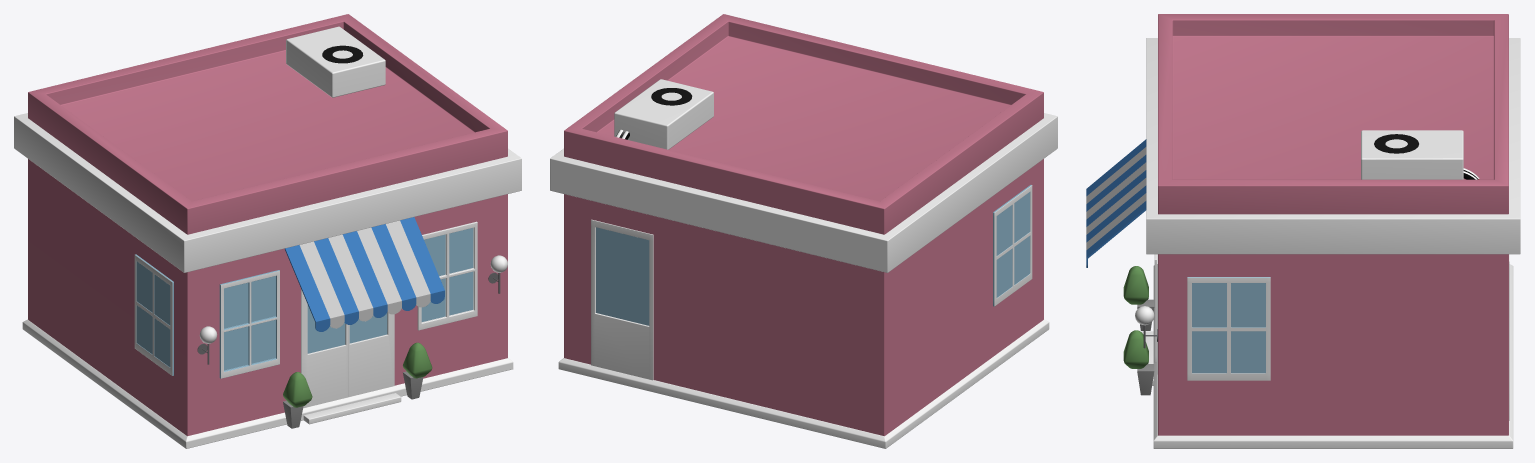
The model's file is Target_shop1.fbx.
3 views of the same model, side by side, from view 1: azimuth 30°, elevation 25°; view 2: azimuth 150°, elevation 25°; view 3: azimuth 270°, elevation 25° (orthographic). The views are drawn at different scales.
Visible parts, largest first — view 1: polySurface1; view 2: polySurface1; view 3: polySurface1.
Part boxes in pixels (left/top/right/bottom): polySurface1: left=14, top=14, right=521, bottom=448; polySurface1: left=550, top=14, right=1057, bottom=448; polySurface1: left=1086, top=14, right=1520, bottom=448.
Size of the model in its own units: 825 by 581 by 836.
